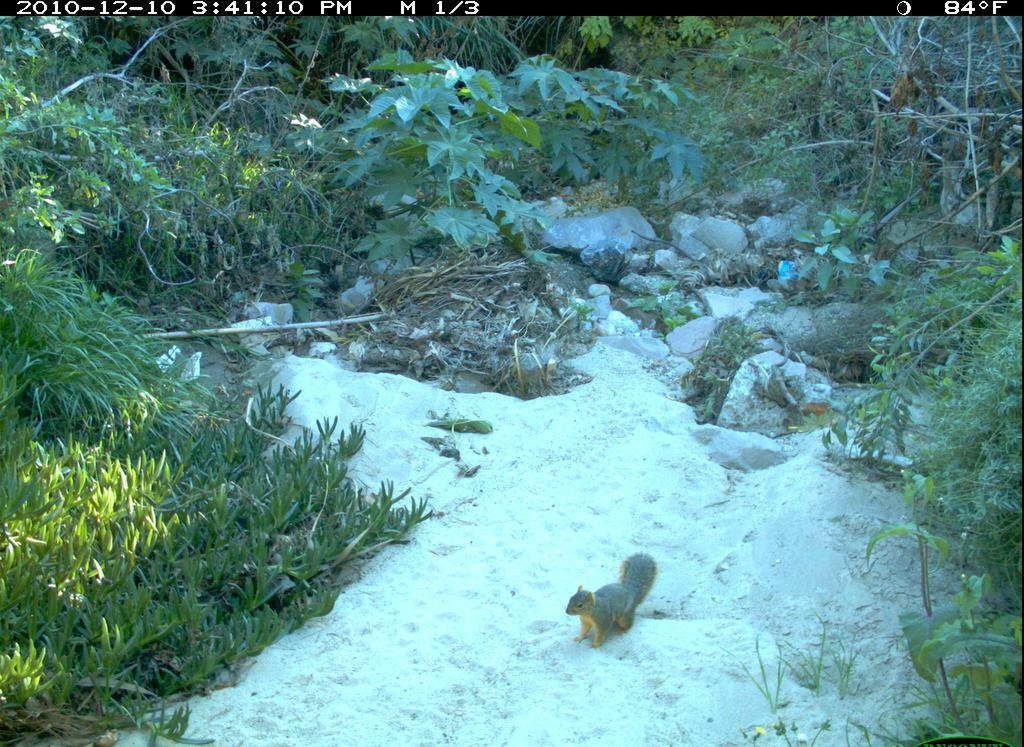squirrel: (560, 547, 664, 655)
